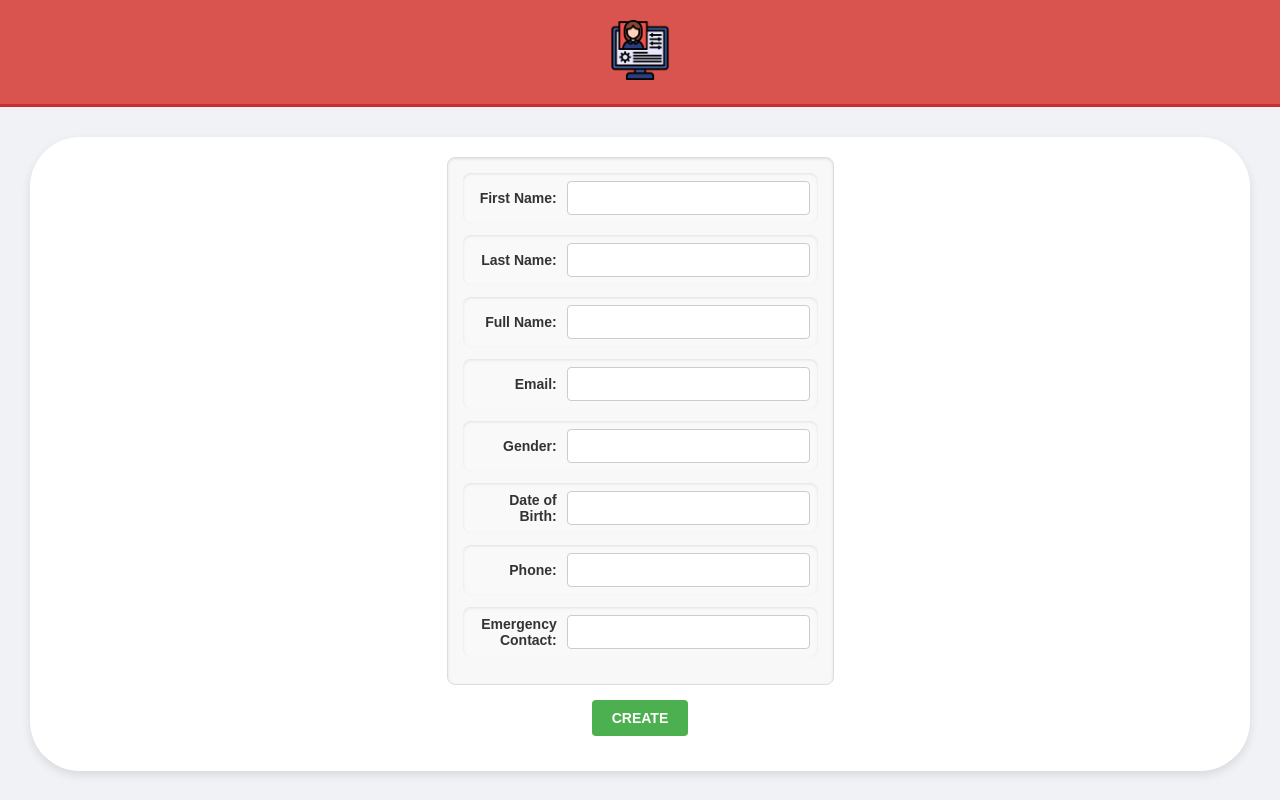
it: Admin Create Patient Panel › should display missing email if no email
# Fill in the form with valid data
Type "John" into the field with id "input1" at (689, 198), box [567, 181, 810, 215]
Type "Doe" into the field with id "input2" at (689, 260), box [567, 243, 810, 277]
Type "John Doe" into the field with id "input3" at (689, 322), box [567, 305, 810, 339]
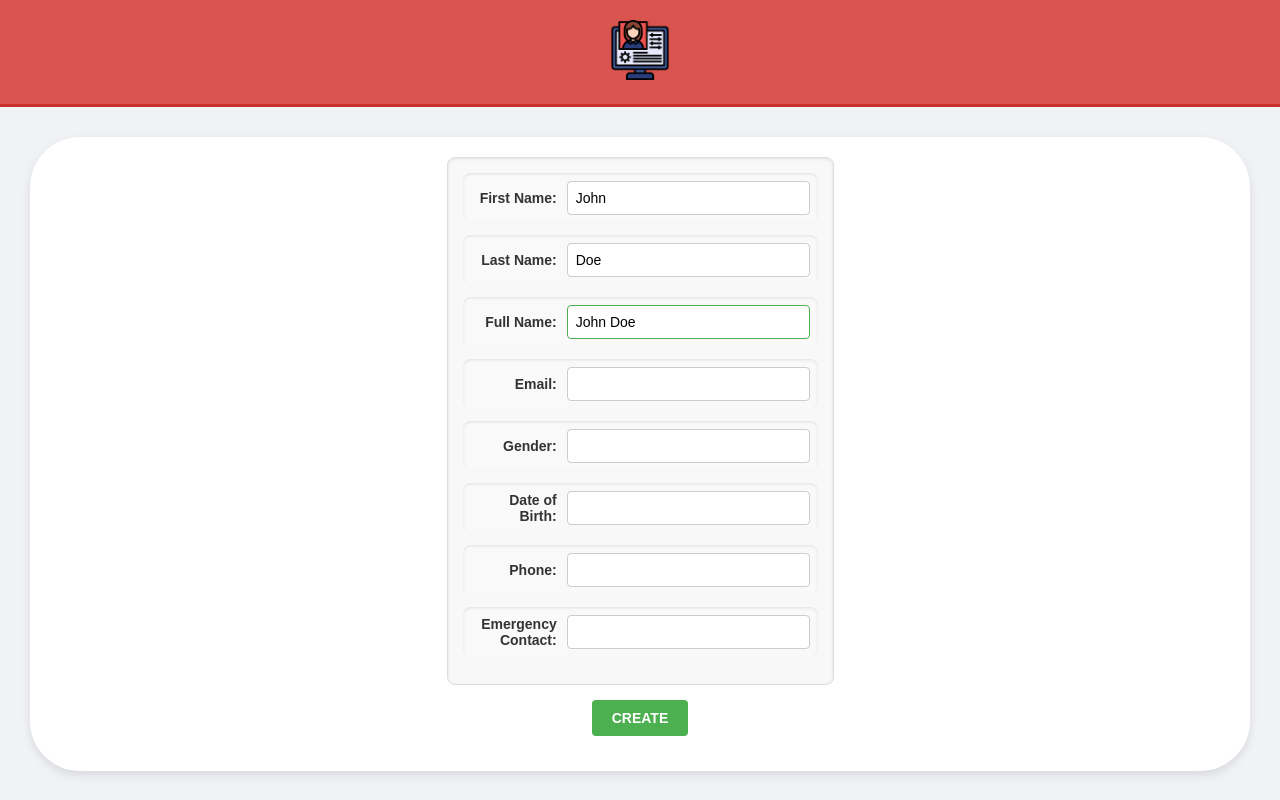
Type "Male" into the field with id "input5" at (689, 446), box [567, 429, 810, 463]
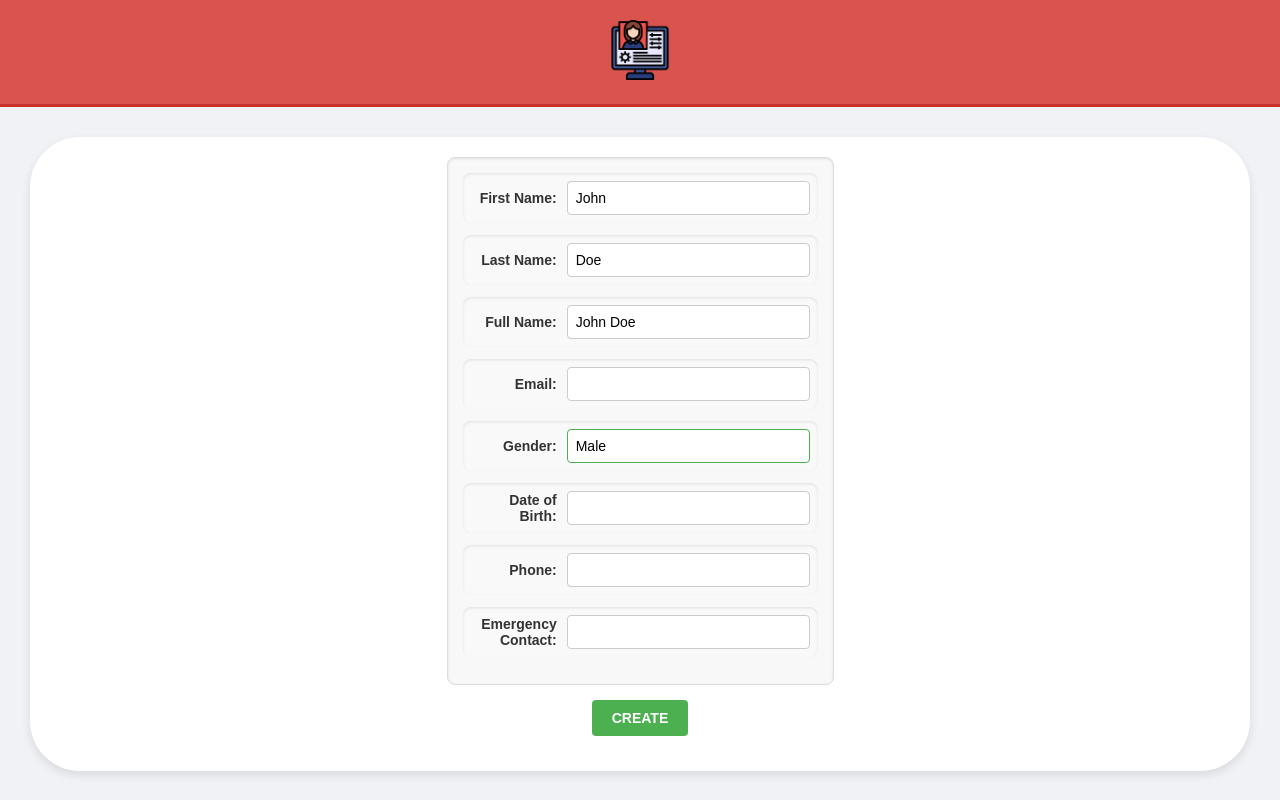
Type "1980-01-01" into the field with id "input6" at (689, 508), box [567, 491, 810, 525]
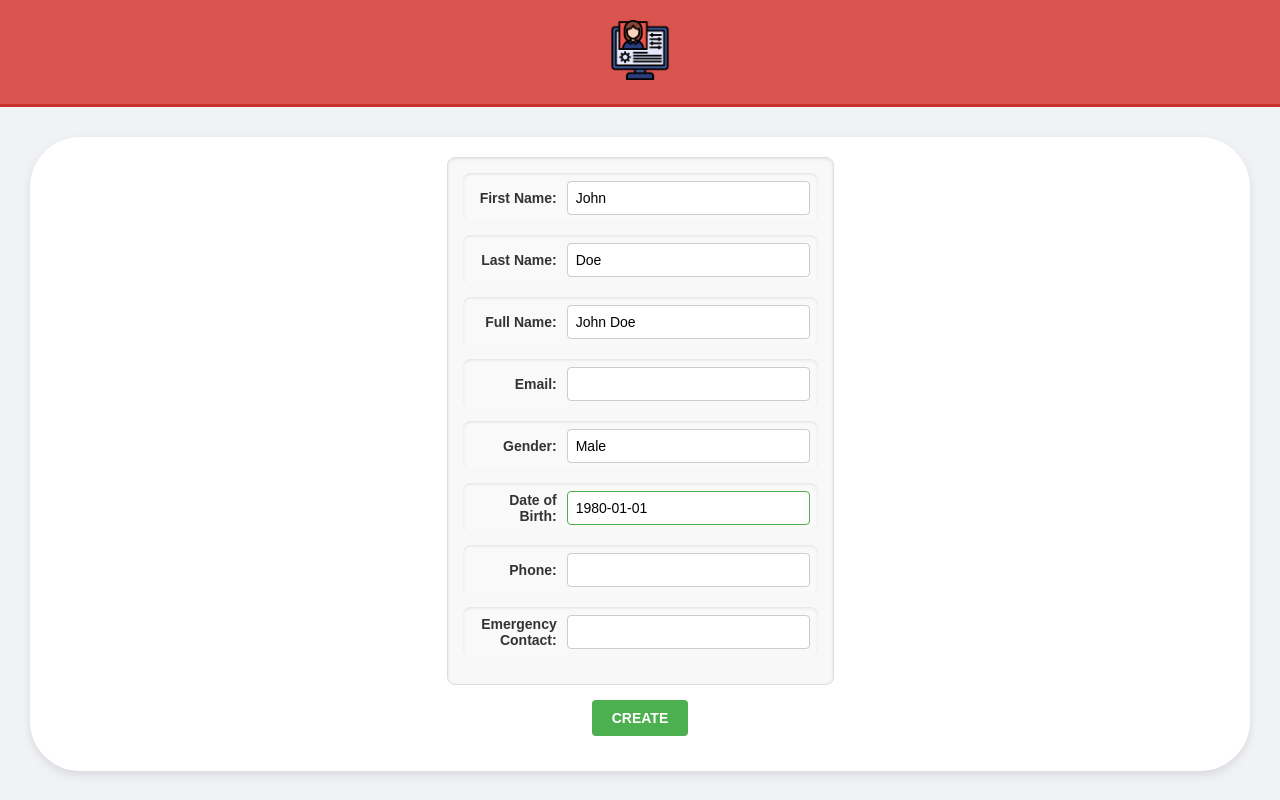
Type "919505991" into the field with id "input7" at (689, 570), box [567, 553, 810, 587]
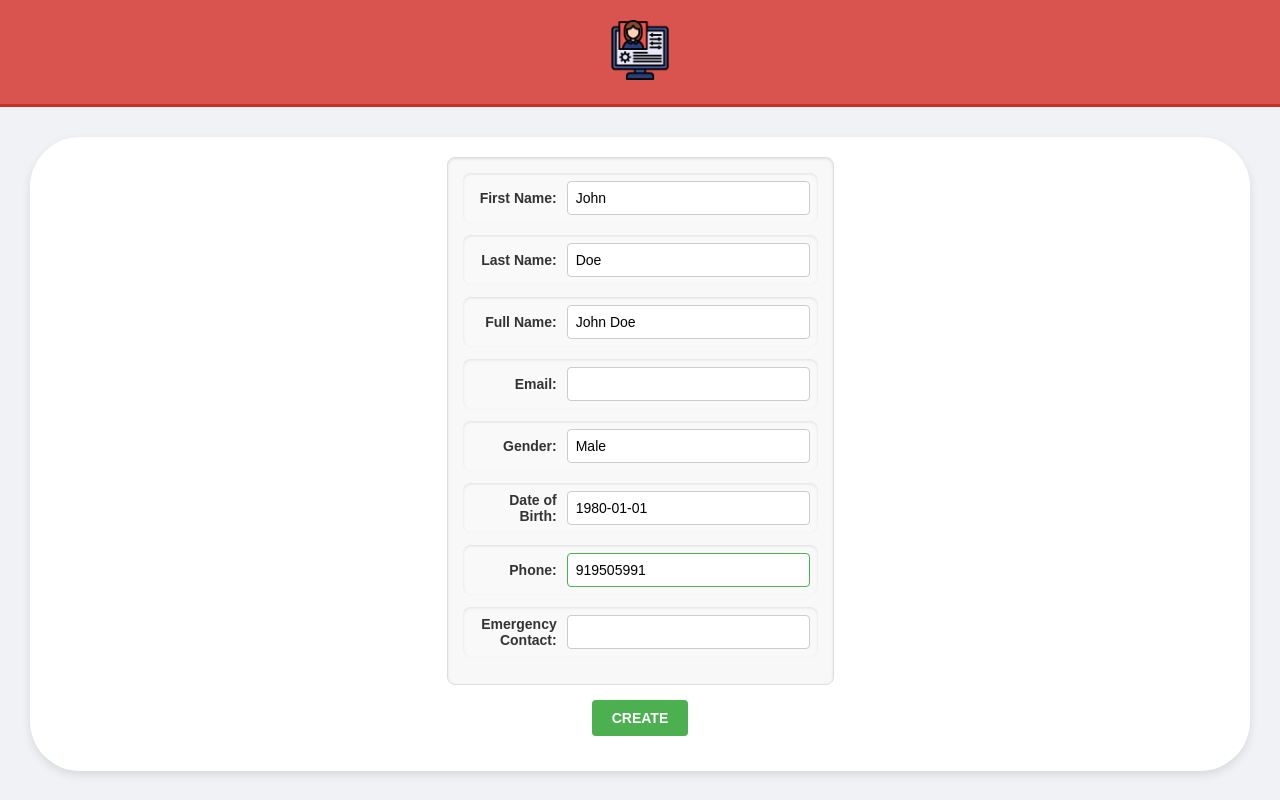
Type "919505891" into the field with id "input8" at (689, 632), box [567, 615, 810, 649]
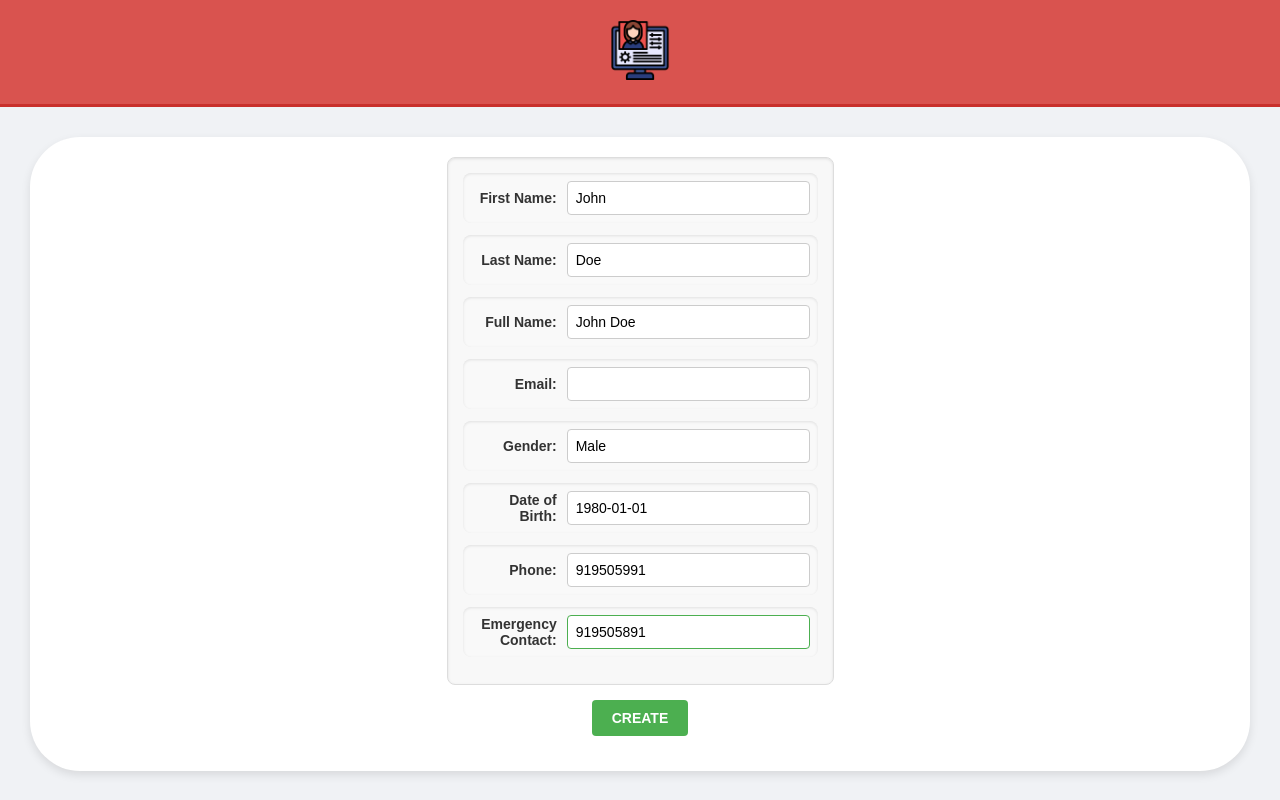
# Click the 'CREATE' button
Click the button with class "update" at (641, 718), box [592, 700, 689, 736]
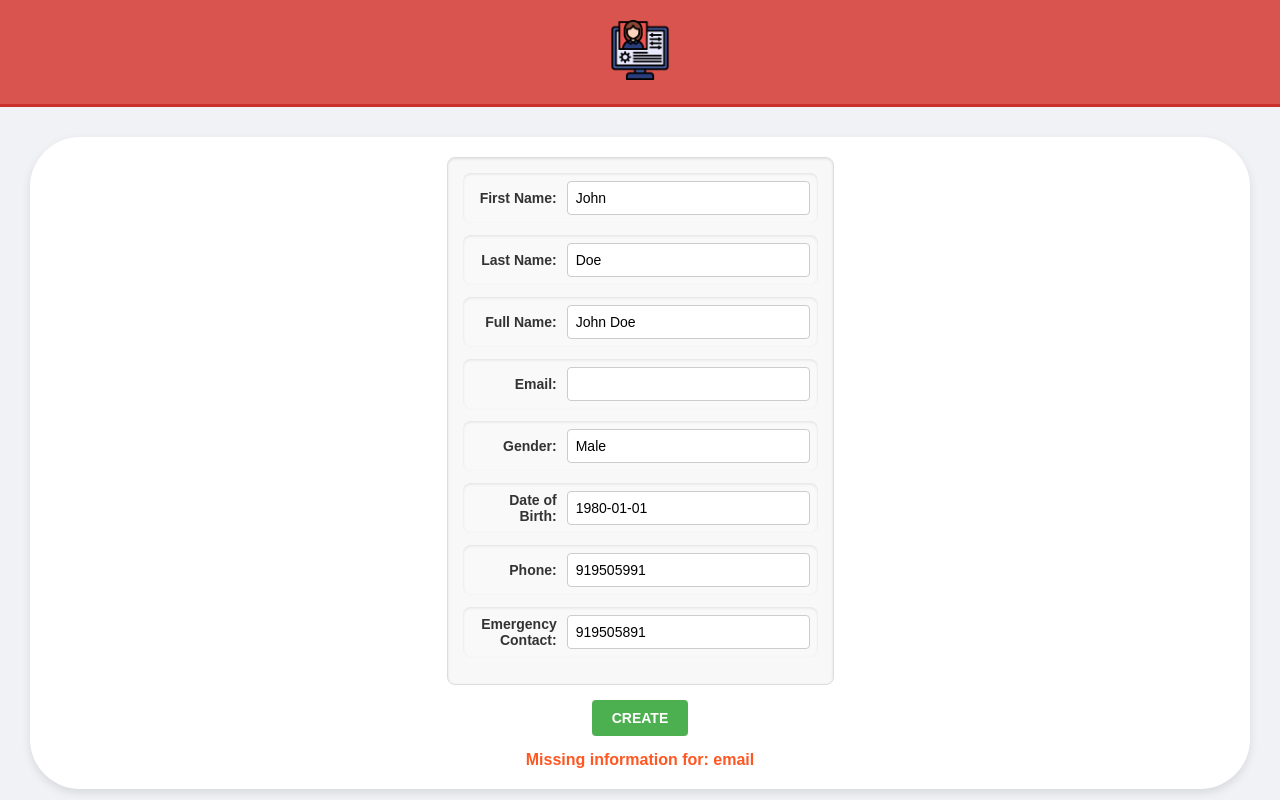
Check: the text "Missing information for:" reads "Missing information for: email", box [526, 751, 754, 768]
